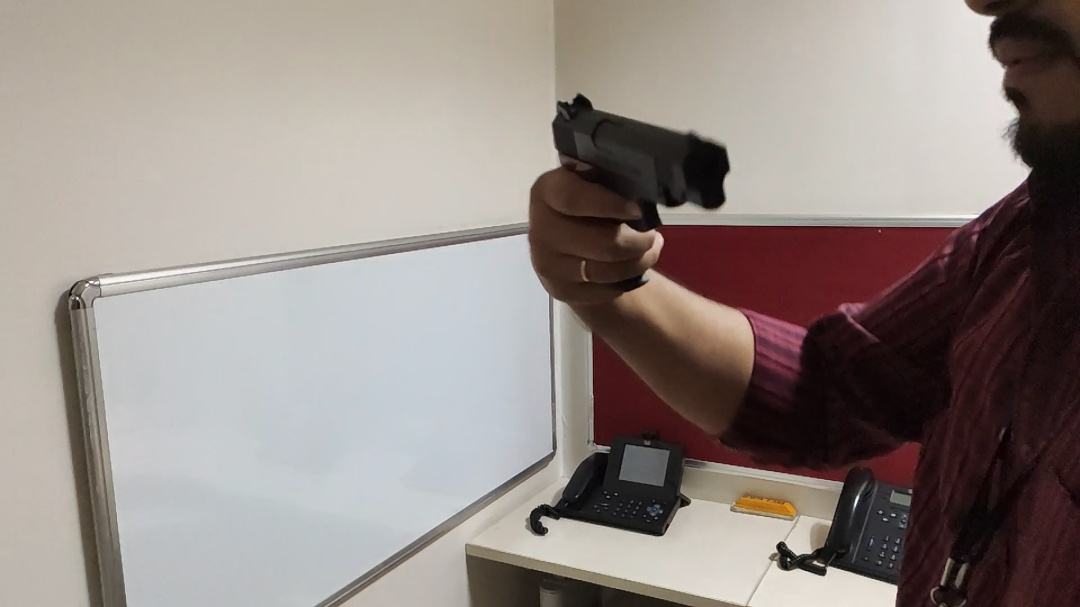gun: (500, 85, 749, 275)
